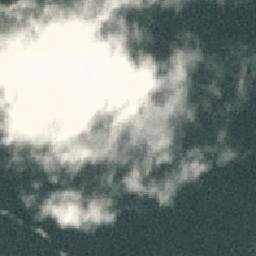cloud: (1, 16, 106, 151), (21, 188, 118, 231), (16, 147, 109, 190), (102, 36, 156, 110), (149, 47, 203, 114), (103, 111, 172, 153), (118, 149, 172, 190), (149, 166, 201, 203), (1, 1, 98, 19), (97, 1, 143, 36), (180, 148, 235, 169)
